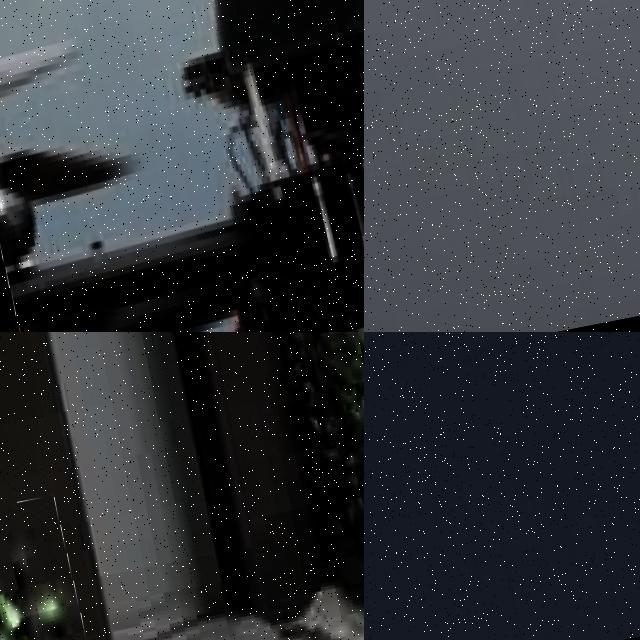drone: (0, 0, 364, 332), (0, 495, 97, 640)
